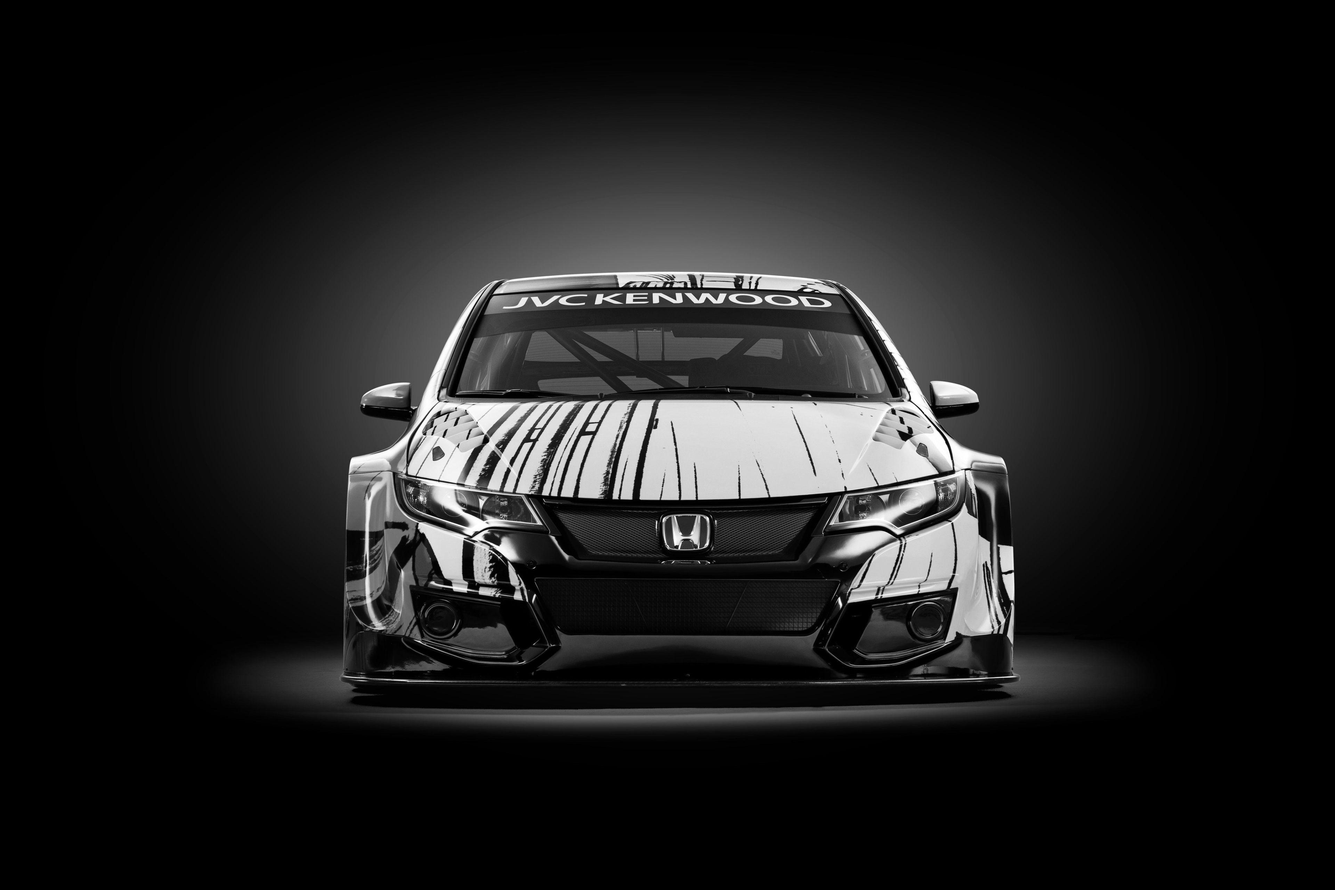Car hood: (397, 391, 956, 514)
Front bumper: (327, 503, 1030, 706)
Headlight - -L-: (825, 468, 958, 542)
Headlight - -R-: (391, 473, 542, 540)
Side mirror - -L-: (916, 376, 979, 417)
Side mirror - -R-: (360, 381, 420, 429)
